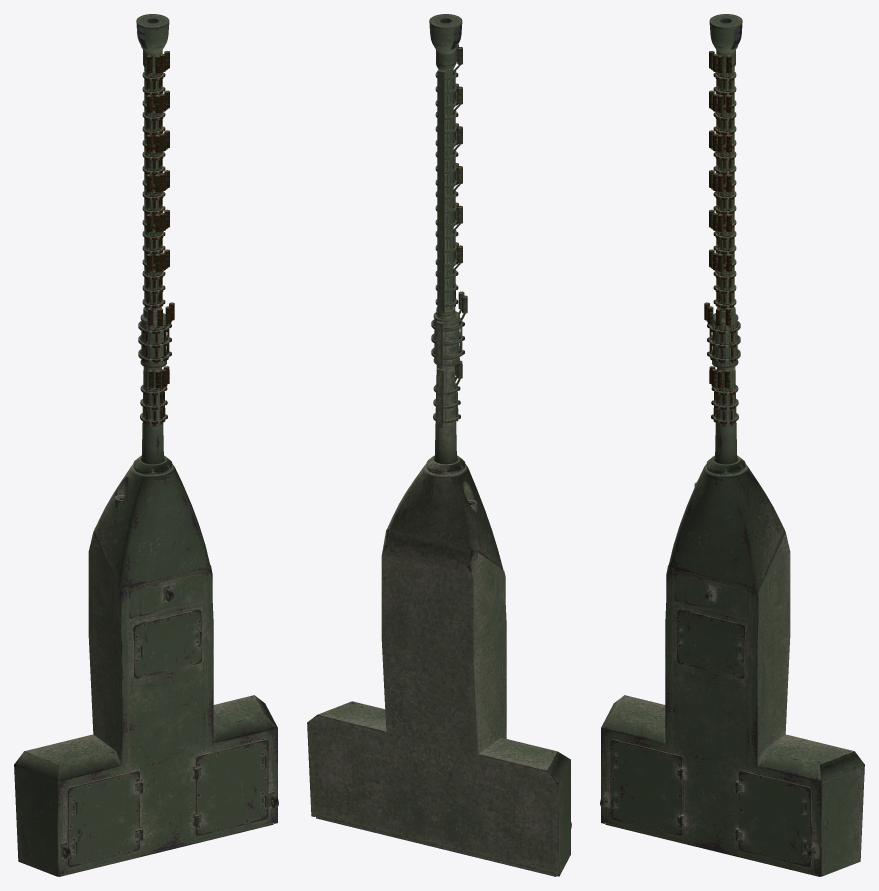
File: Gun_02.glb
3 views of the same model, side by side, from view 1: azimuth 30°, elevation 25°; view 2: azimuth 150°, elevation 25°; view 3: azimuth 330°, elevation 25° (orthographic).
Parts seen in each view (by area): view 1: set_0_group_0; view 2: set_0_group_0; view 3: set_0_group_0.
Part boxes in pixels (x1,y1,x2,y2): set_0_group_0: [14, 14, 278, 876]; set_0_group_0: [307, 14, 571, 876]; set_0_group_0: [600, 14, 864, 876].
Bounding box in the file's own units: 2.98 × 9.33 × 0.7947.
1 material, 1 textured.
